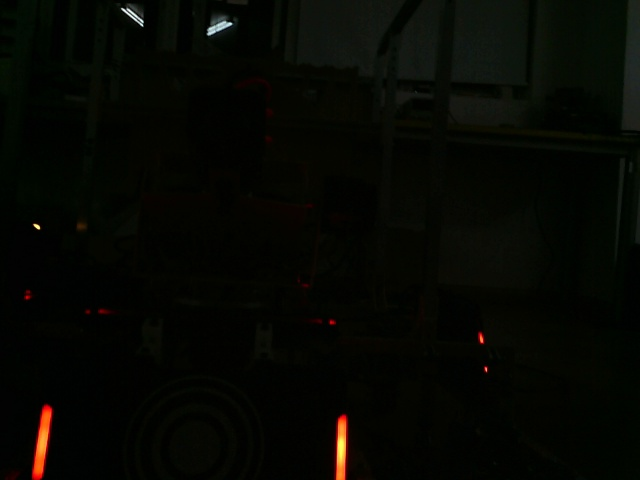lamp: (30, 403, 55, 480)
